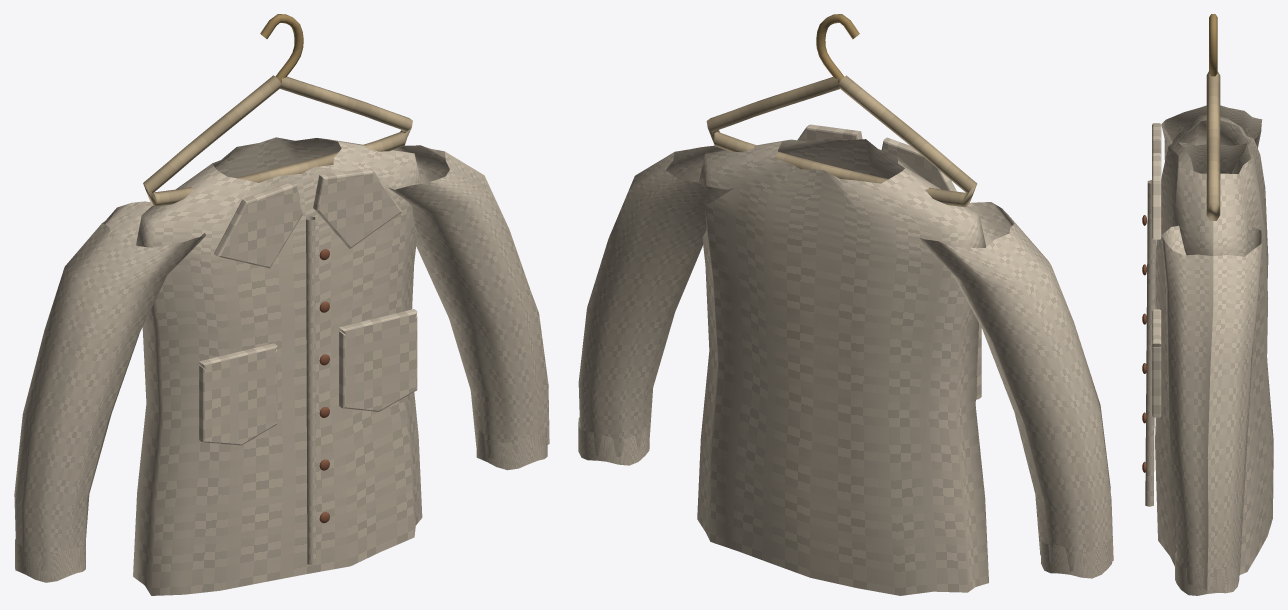
3 renders of one model, left to right at view 1: azimuth 30°, elevation 25°; view 2: azimuth 150°, elevation 25°; view 3: azimuth 270°, elevation 25°, orthographic. The views are drawn at different scales.
Visible parts, largest first — view 1: fabric_linen, ash_grain, aged_brass; view 2: fabric_linen, ash_grain, aged_brass; view 3: fabric_linen, ash_grain, aged_brass, leather_tobacco.
Boxes of the visible parts, x1,y1,x2,y2 form: fabric_linen: (14,137,549,595); ash_grain: (143,75,412,206); aged_brass: (260,14,303,82); fabric_linen: (578,124,1113,595); ash_grain: (706,75,977,207); aged_brass: (816,14,859,83); fabric_linen: (1145,105,1273,595); ash_grain: (1206,71,1220,220); aged_brass: (1209,14,1217,76); leather_tobacco: (1142,215,1146,472).
Bounding box in the file's own units: 0.9217 × 0.9038 × 0.2126.
4 materials, 2 textured.
